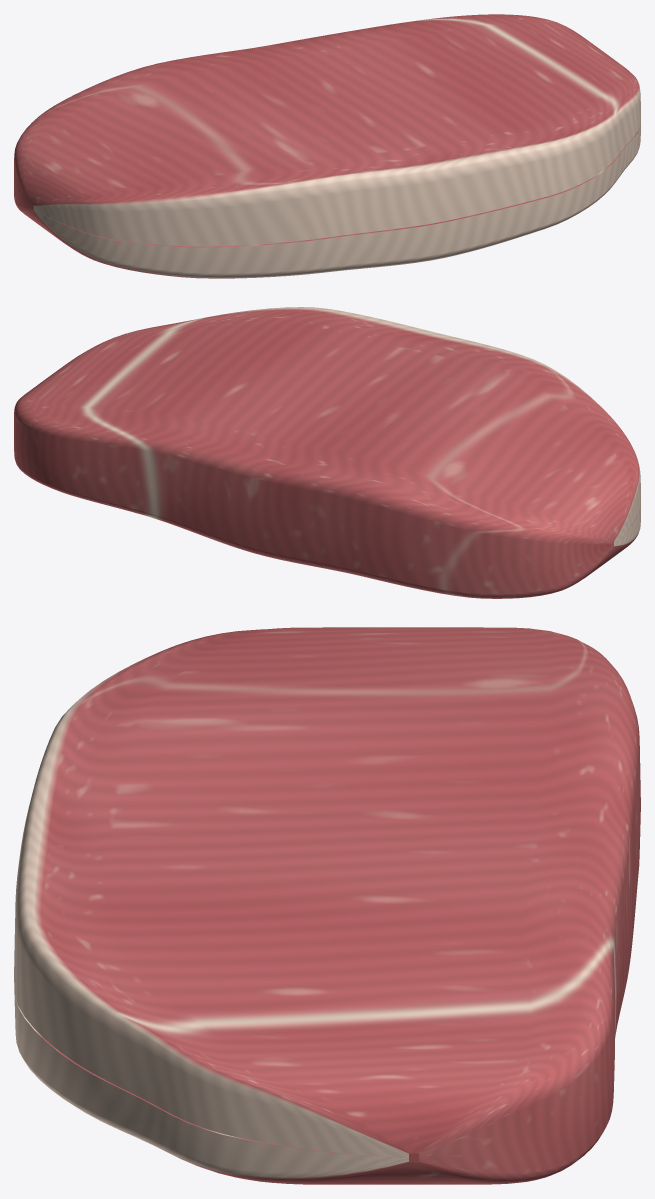
Rendered from pork.glb.
The picture shows the model from 3 angles, top to bottom: view 1: azimuth 30°, elevation 25°; view 2: azimuth 150°, elevation 25°; view 3: azimuth 270°, elevation 25°; orthographic projection. The views are drawn at different scales.
Visible parts, largest first — view 1: pork; view 2: pork; view 3: pork.
Boxes of the visible parts, bbox=[...] form: pork: bbox=[14, 14, 640, 278]; pork: bbox=[14, 307, 640, 598]; pork: bbox=[14, 627, 640, 1184].
Size of the model in its own units: 2.3 by 0.405 by 1.27.
Materials: 1 (1 with a texture image).
